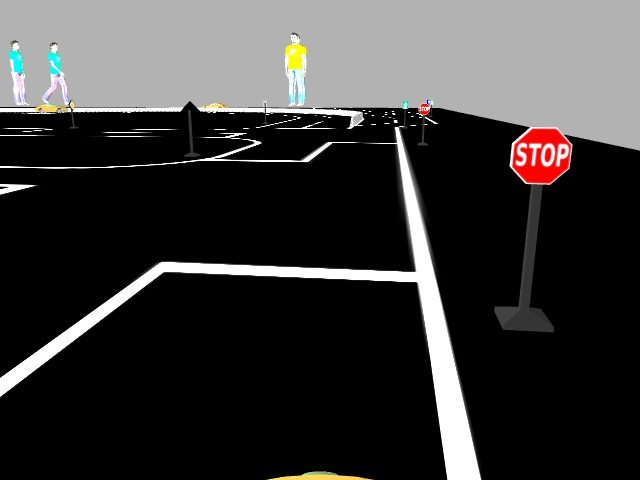Stop: (504, 119, 578, 191)
